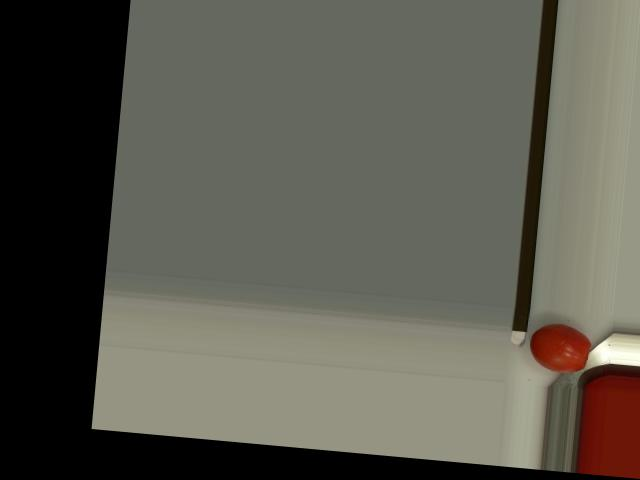tomato: (528, 321, 593, 375)
